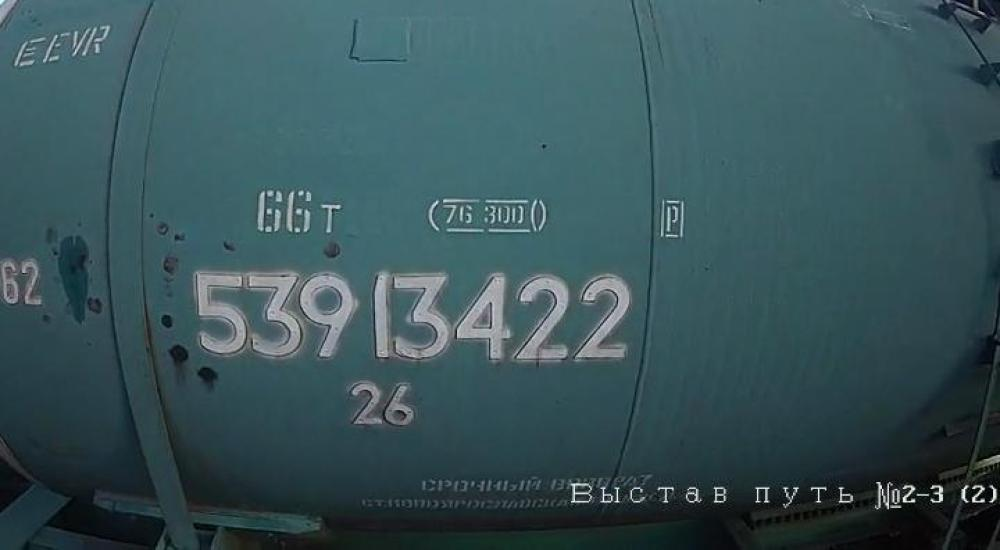Wagon-number: (191, 266, 633, 368)
